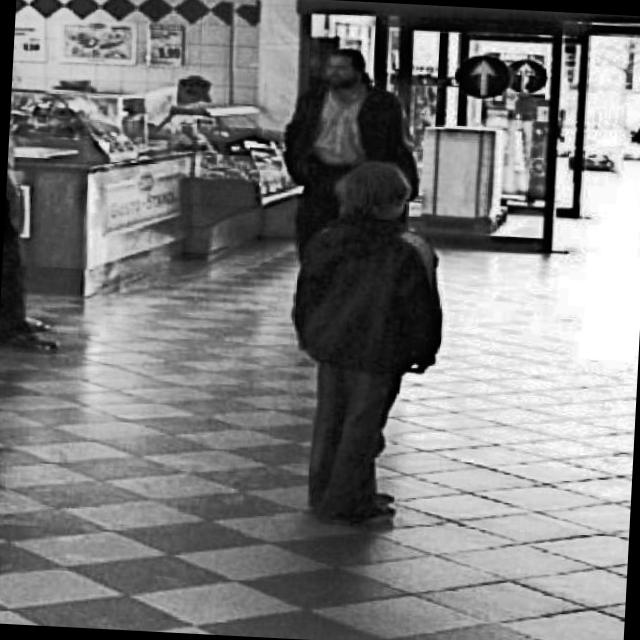Person: (281, 153, 426, 532), (270, 34, 424, 185)
